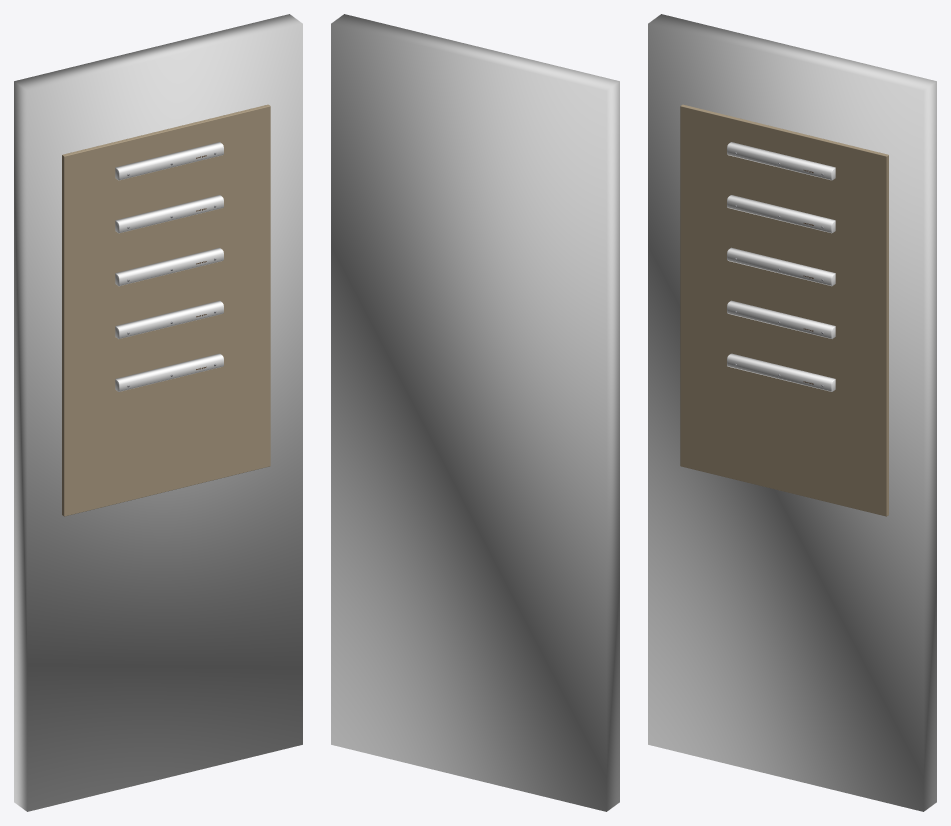
The model's file is metolius-wood-grips-campus-rungs_v001.glb.
3 renders of one model, left to right at view 1: azimuth 30°, elevation 25°; view 2: azimuth 150°, elevation 25°; view 3: azimuth 330°, elevation 25°, orthographic.
Parts seen in each view (by area): view 1: metolius-wood-grips-campus-rungs_wall, metolius-wood-grips-campus-rungs_ply, metolius-wood-grips-campus-rungs_wood; view 2: metolius-wood-grips-campus-rungs_wall; view 3: metolius-wood-grips-campus-rungs_wall, metolius-wood-grips-campus-rungs_ply, metolius-wood-grips-campus-rungs_wood.
Part boxes in pixels (x1,y1,x2,y2): metolius-wood-grips-campus-rungs_wall: (14, 14, 302, 811); metolius-wood-grips-campus-rungs_ply: (62, 104, 270, 516); metolius-wood-grips-campus-rungs_wood: (115, 142, 223, 391); metolius-wood-grips-campus-rungs_wall: (331, 14, 619, 811); metolius-wood-grips-campus-rungs_wall: (648, 14, 936, 811); metolius-wood-grips-campus-rungs_ply: (680, 104, 888, 516); metolius-wood-grips-campus-rungs_wood: (727, 142, 835, 391).
Bounding box in the file's own units: 1.2 × 3 × 0.1506.
